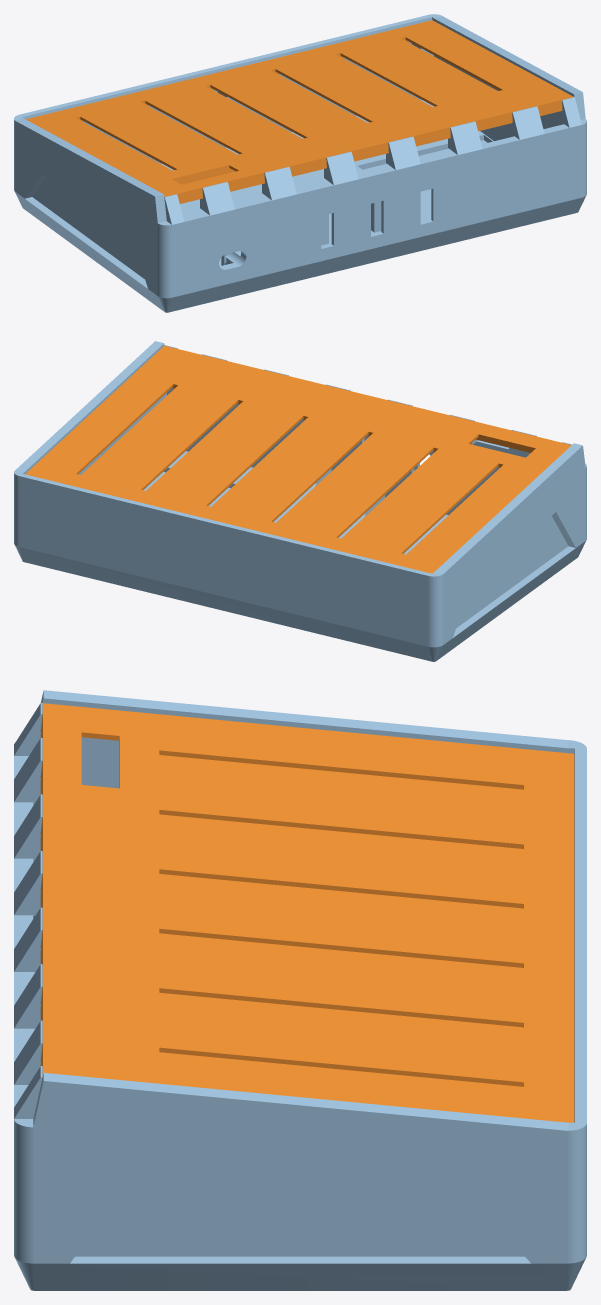
Rendered from macropad v3 simplee full.obj.
3 renders of one model, top to bottom at view 1: azimuth 30°, elevation 25°; view 2: azimuth 150°, elevation 25°; view 3: azimuth 270°, elevation 25°, orthographic. The views are drawn at different scales.
Parts seen in each view (by area): view 1: Mesh13 Group1 Model, Mesh15 Group14 Model, Mesh1 Group2 Group1 Model, Mesh2 Group3 Group1 Model, Mesh9 Group10 Group1 Model, Mesh4 Group5 Group1 Model, Mesh8 Group9 Group1 Model, Mesh6 Group7 Group1 Model; view 2: Mesh15 Group14 Model, Mesh13 Group1 Model; view 3: Mesh15 Group14 Model, Mesh13 Group1 Model, Mesh8 Group9 Group1 Model, Mesh6 Group7 Group1 Model, Mesh4 Group5 Group1 Model, Mesh9 Group10 Group1 Model, Mesh2 Group3 Group1 Model, Mesh1 Group2 Group1 Model.
Boxes of the visible parts, left/top/right/bottom form: Mesh13 Group1 Model: left=14, top=14, right=586, bottom=312; Mesh15 Group14 Model: left=26, top=20, right=573, bottom=203; Mesh1 Group2 Group1 Model: left=509, top=106, right=544, bottom=139; Mesh2 Group3 Group1 Model: left=386, top=136, right=420, bottom=170; Mesh9 Group10 Group1 Model: left=262, top=166, right=296, bottom=200; Mesh4 Group5 Group1 Model: left=448, top=121, right=482, bottom=154; Mesh8 Group9 Group1 Model: left=200, top=182, right=234, bottom=215; Mesh6 Group7 Group1 Model: left=324, top=151, right=358, bottom=185; Mesh15 Group14 Model: left=25, top=345, right=571, bottom=573; Mesh13 Group1 Model: left=14, top=341, right=586, bottom=661; Mesh15 Group14 Model: left=40, top=703, right=574, bottom=1122; Mesh13 Group1 Model: left=14, top=690, right=586, bottom=1290; Mesh8 Group9 Group1 Model: left=14, top=738, right=42, bottom=802; Mesh6 Group7 Group1 Model: left=14, top=851, right=42, bottom=915; Mesh4 Group5 Group1 Model: left=14, top=964, right=42, bottom=1028; Mesh9 Group10 Group1 Model: left=14, top=794, right=42, bottom=858; Mesh2 Group3 Group1 Model: left=14, top=907, right=42, bottom=971; Mesh1 Group2 Group1 Model: left=14, top=1020, right=42, bottom=1084.
Size of the model in its own units: 172 by 44.53 by 107.
